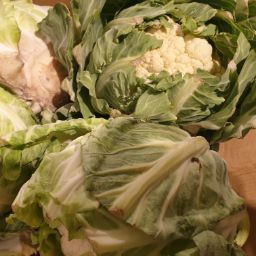Cauliflower: (2, 2, 256, 256), (17, 51, 177, 194), (112, 15, 219, 208)
